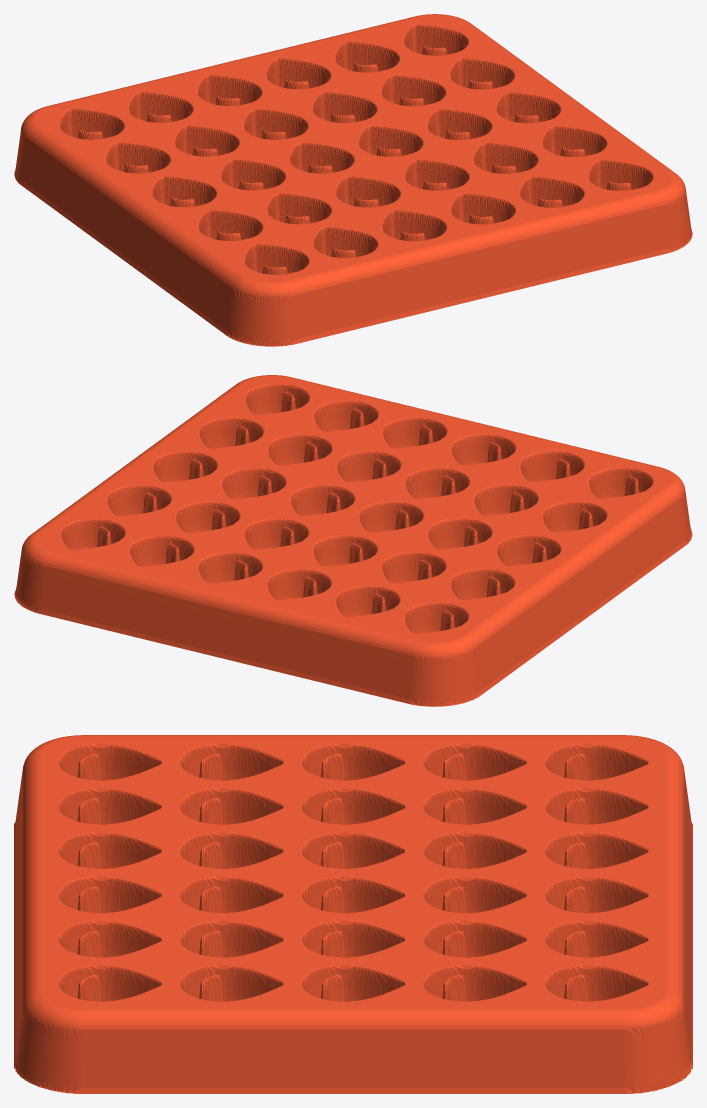
The model's file is mold.glb.
3 views of the same model, one above another, from view 1: azimuth 30°, elevation 25°; view 2: azimuth 150°, elevation 25°; view 3: azimuth 270°, elevation 25° (orthographic). The views are drawn at different scales.
Visible parts, largest first — view 1: geometry_0; view 2: geometry_0; view 3: geometry_0.
Boxes of the visible parts, x1,y1,x2,y2 form: geometry_0: (14, 14, 692, 346); geometry_0: (14, 375, 692, 706); geometry_0: (14, 735, 692, 1093).
Bounding box in the file's own units: 0.0908 × 0.0105 × 0.0882.
